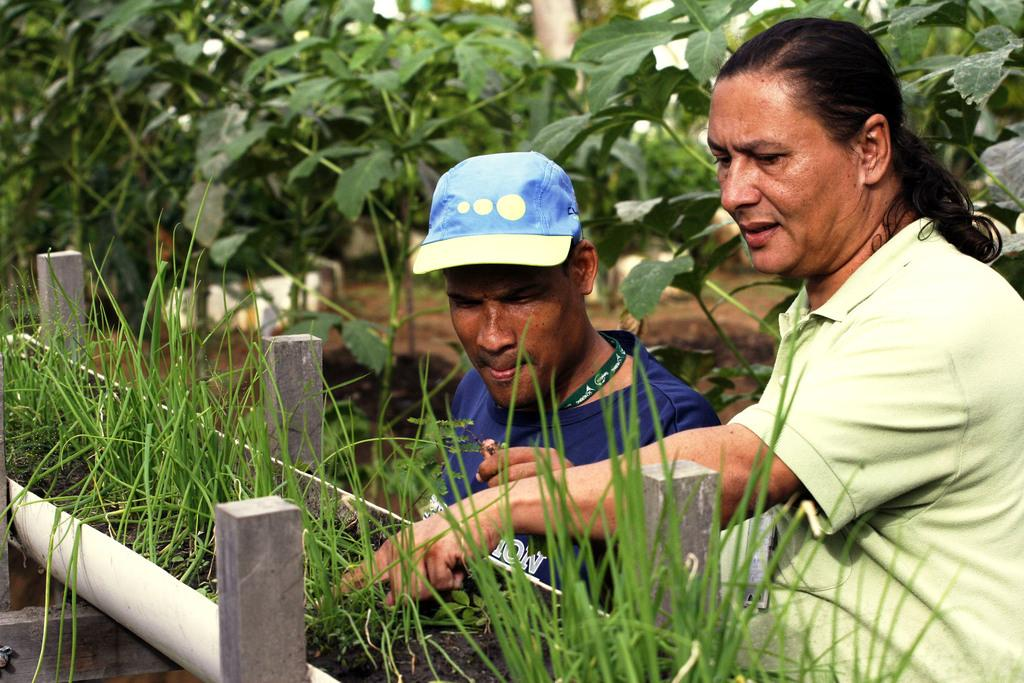Hat: (414, 150, 580, 274)
